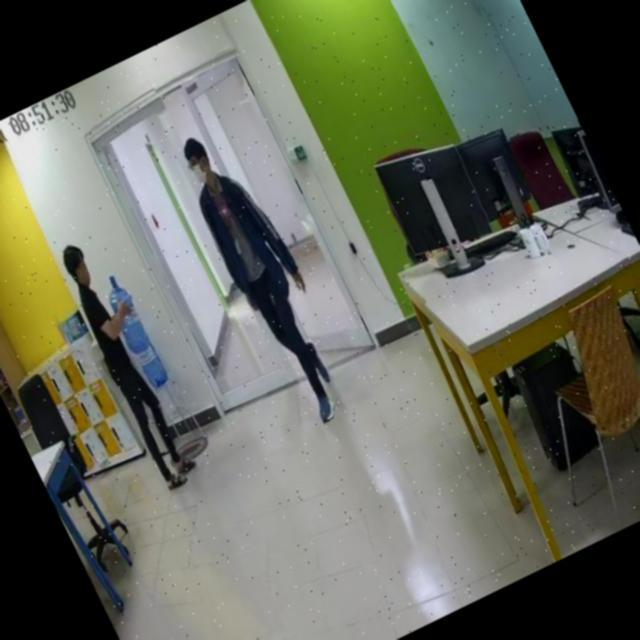person: (170, 126, 356, 432), (49, 236, 200, 489)
